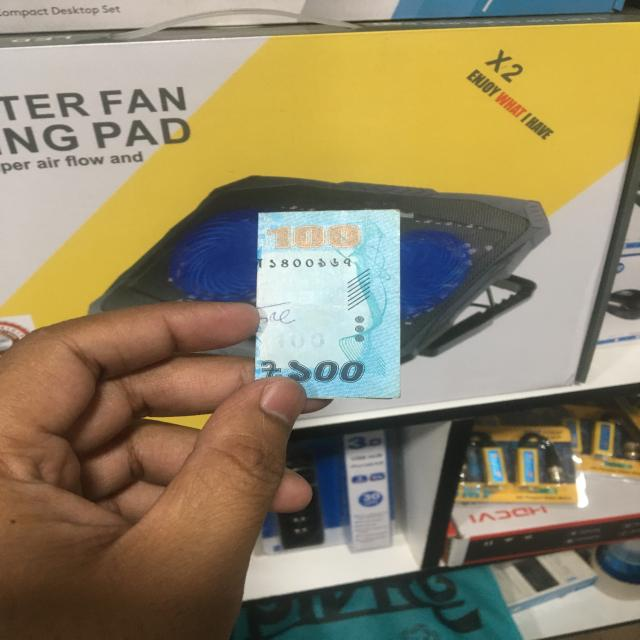Taka: (254, 210, 402, 407)
